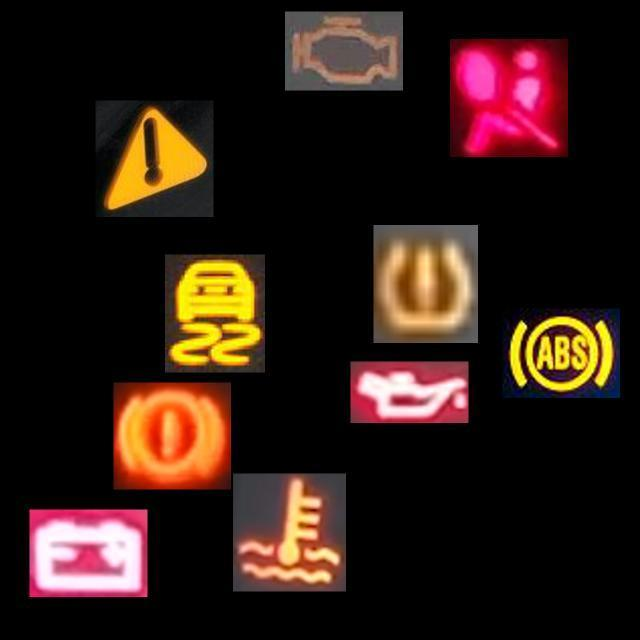Central Warning lamp: (95, 100, 214, 218)
Engine cooling system: (233, 474, 346, 592)
